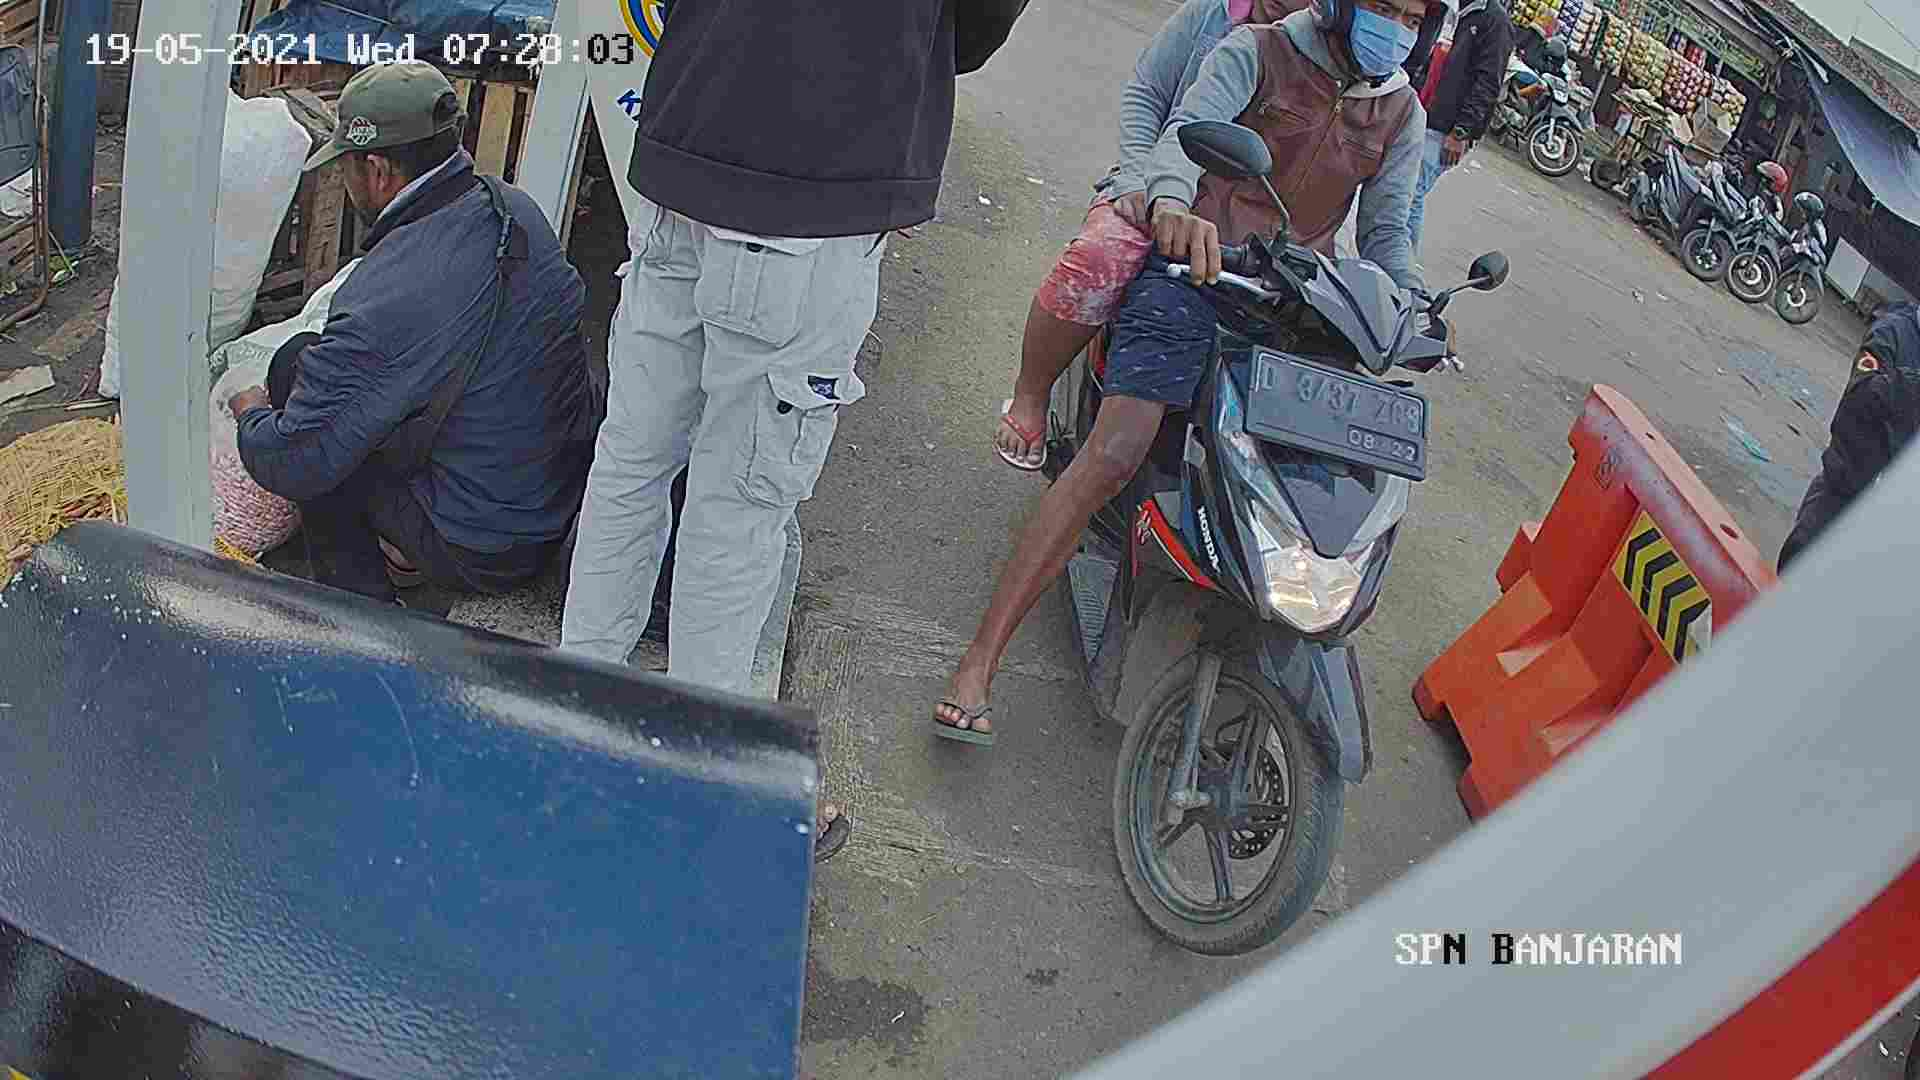motor: (1106, 220, 1403, 939)
